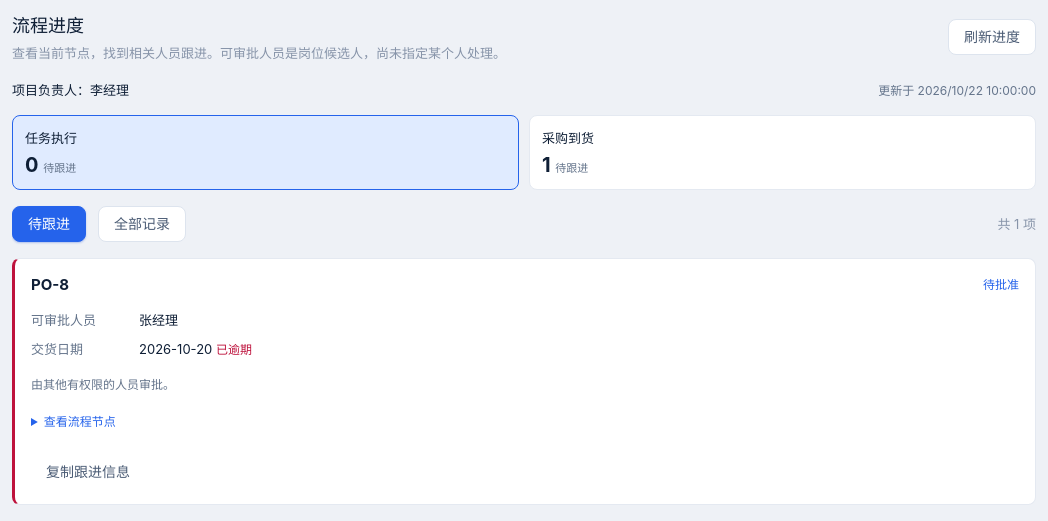
Test: 流程相关人员进度展示 › 失败后清除旧记录，可重试，刷新后反映最新状态
The image size is (1048, 521).
Step 1. Click the button "刷新进度" → coordinates (992, 37), box [948, 19, 1036, 55]
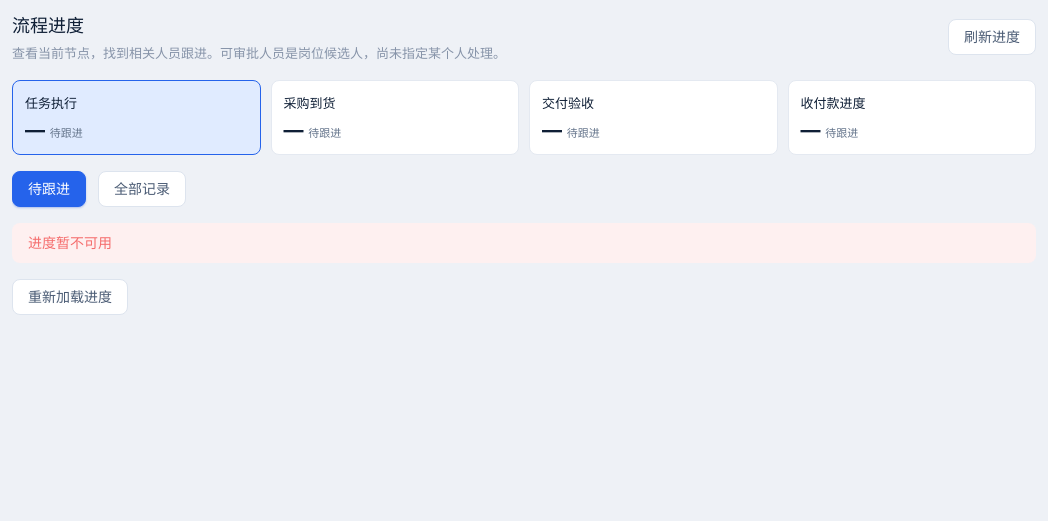
Check: the text "进度暂不可用" is shown, box [28, 231, 112, 255]
Step 2. Click the button "重新加载进度" → coordinates (70, 297), box [12, 279, 128, 315]
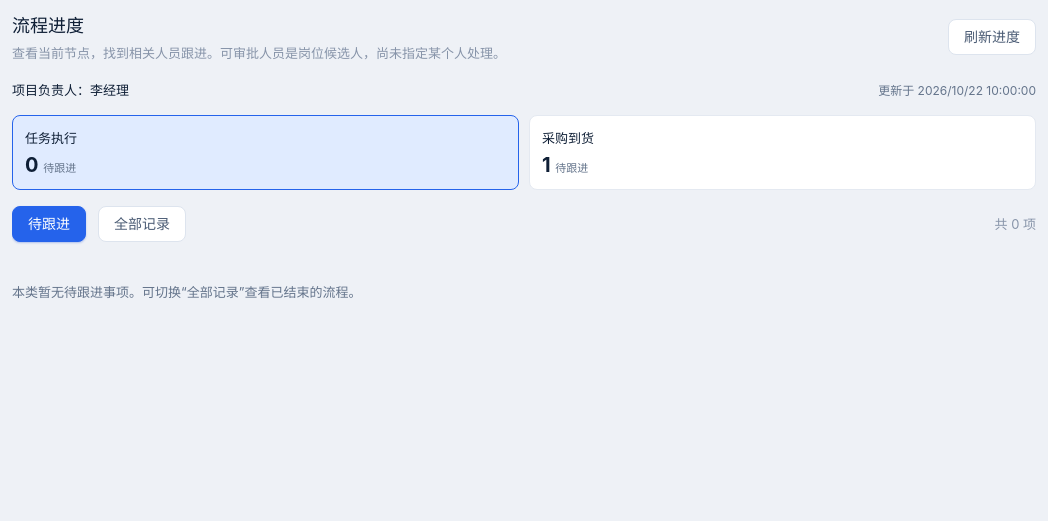
Check: the text "本类暂无待跟进事项" is shown, box [12, 284, 362, 300]
